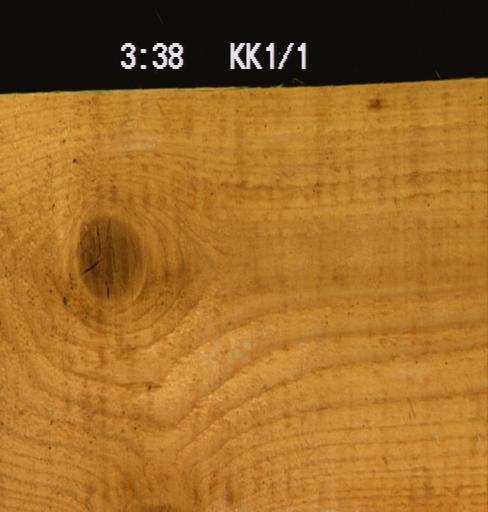sound_knot: (72, 213, 145, 303)
